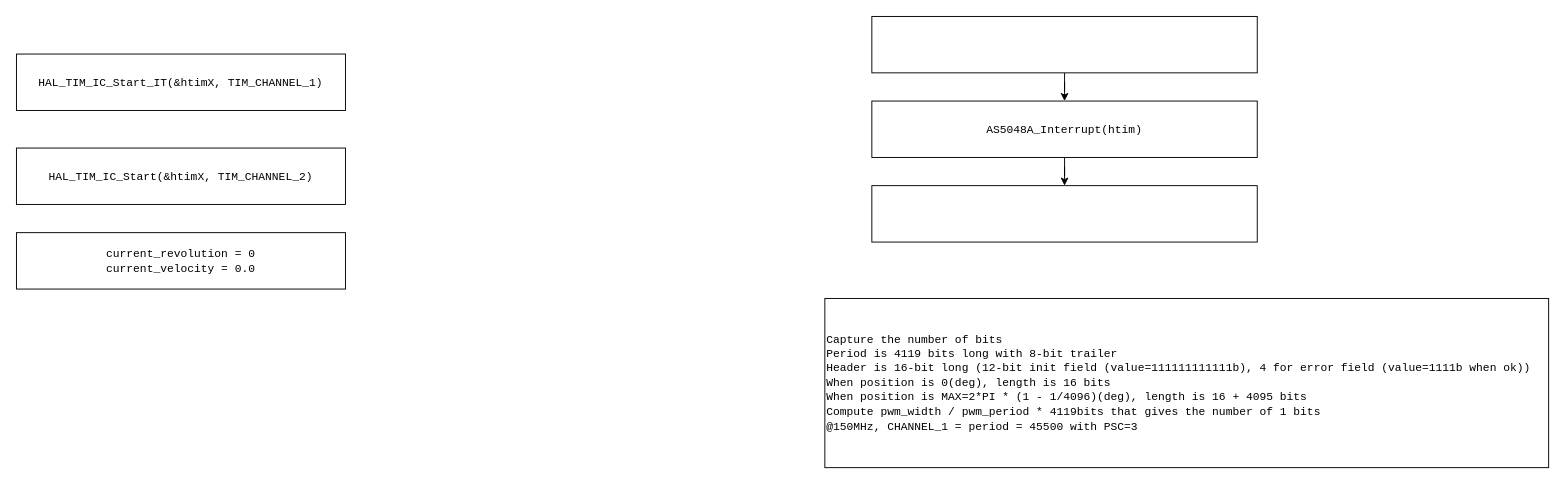
Image size: 1565x484. Some labels were removed from this diagram. The shapes that lost their labels are listed below. From the top down, each one's centre as x and y in pixels, then its label:
pixel 1064 44: HAL_TIM_IC_CaptureCallback(TIM_HandleTypeDef *htim)
pixel 1064 213: current_time = __HAL_TIM_GET_COUNTER(&htim6)
